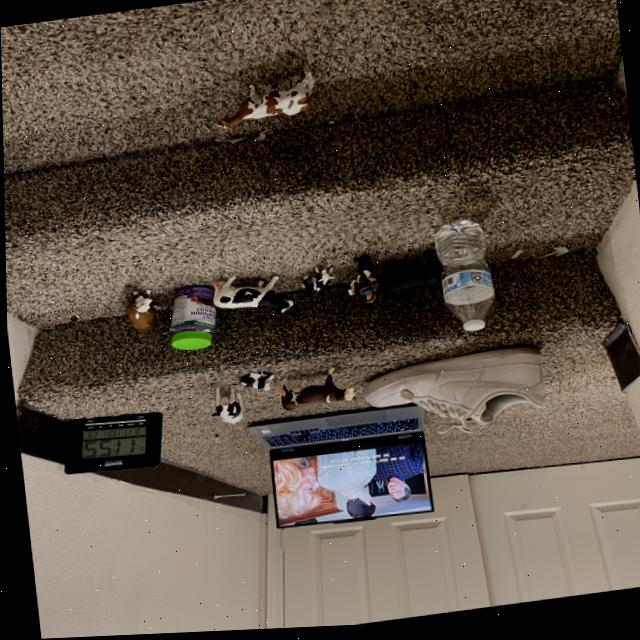cow: (209, 72, 320, 135), (274, 367, 354, 414), (368, 251, 443, 301), (211, 277, 292, 314), (119, 289, 163, 337), (296, 263, 336, 301), (211, 387, 241, 427), (236, 369, 273, 395), (343, 275, 377, 299)
person: (355, 288, 379, 310)
